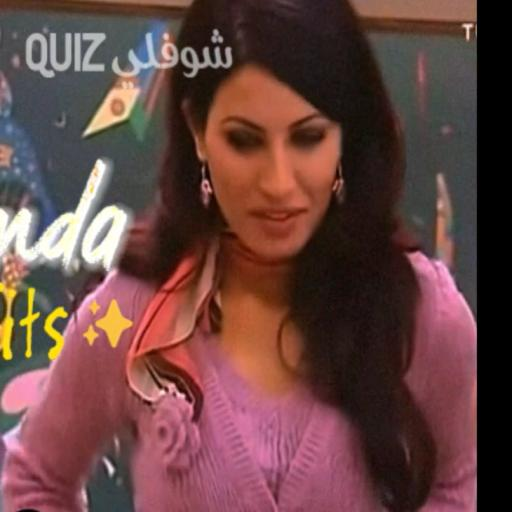Dalanda: (184, 65, 344, 262)
